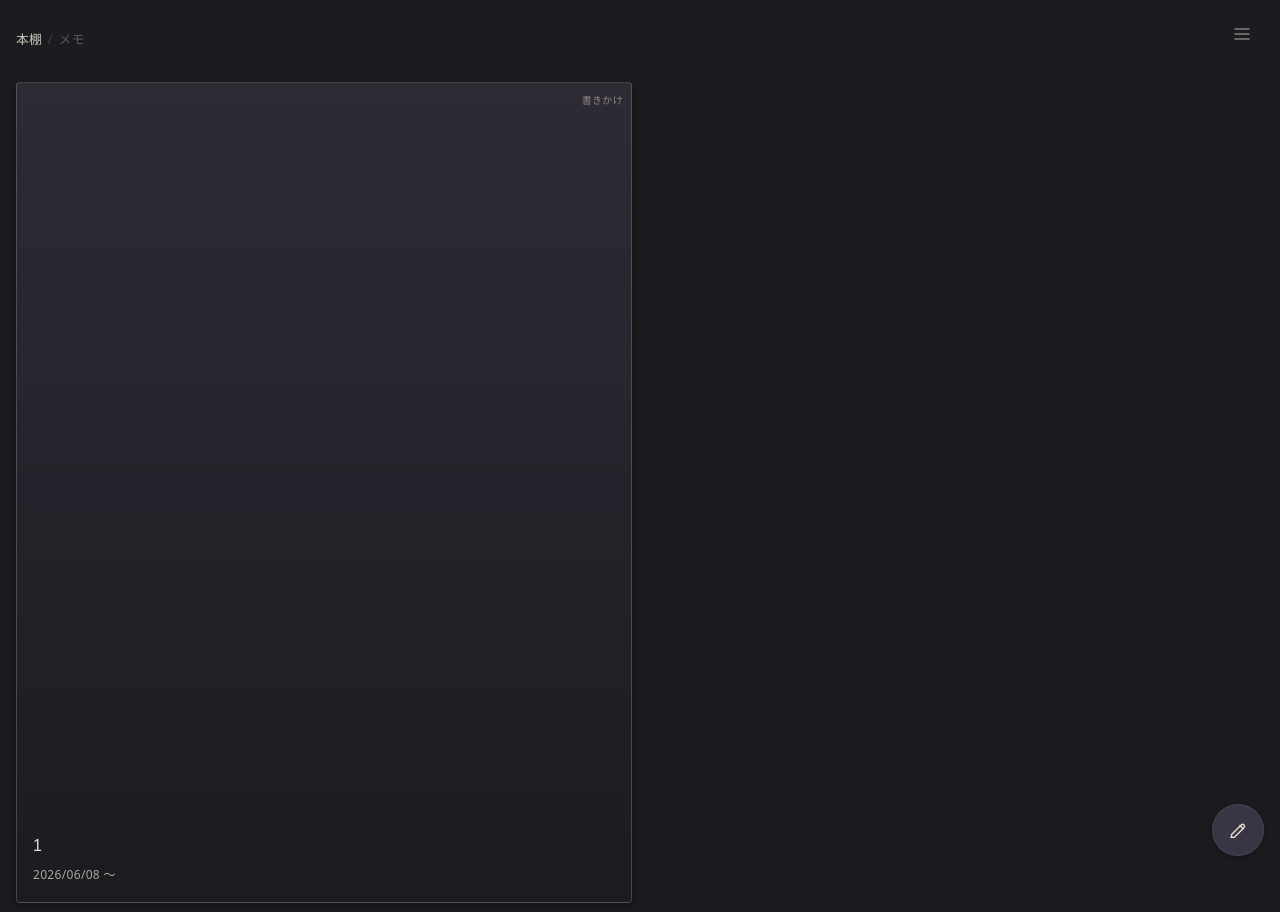
Test: BookshelfPage new volume via header menu (M5-T5.1) › 冊が 1 件以上あるときメニューから「新しいノート」を選べる
The image size is (1280, 912).
Expected: the link with aria-label "ノート 1" is shown, [16,82,632,903]
Click the button named "メニューを開く" at (1242, 34), box [1220,12,1264,56]
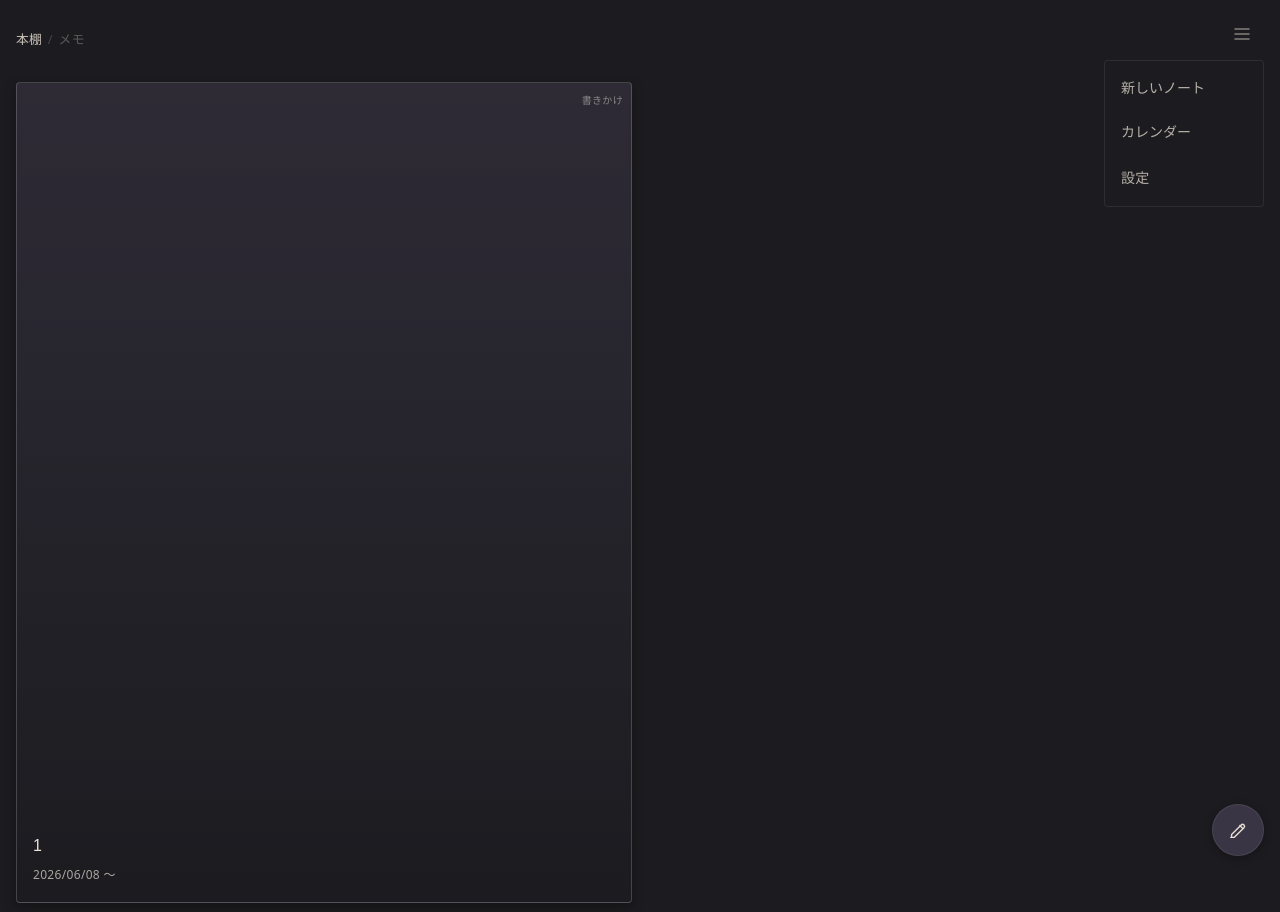
Now the menu item "新しいノート" is shown, box [1105,65,1263,109]
